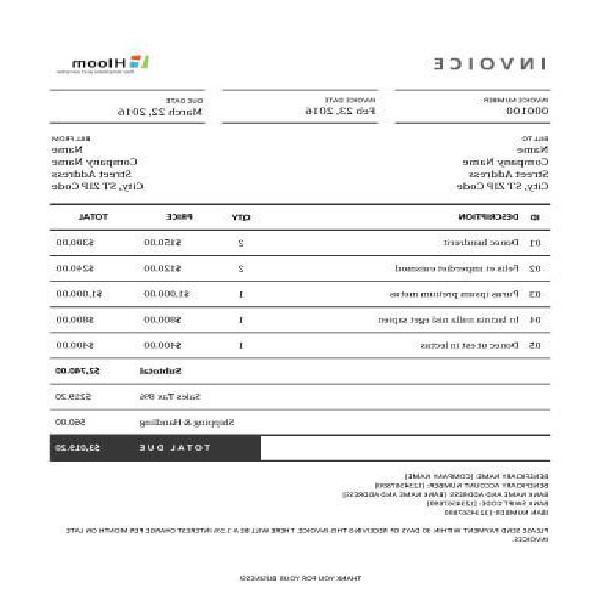test: (48, 59, 550, 535)
